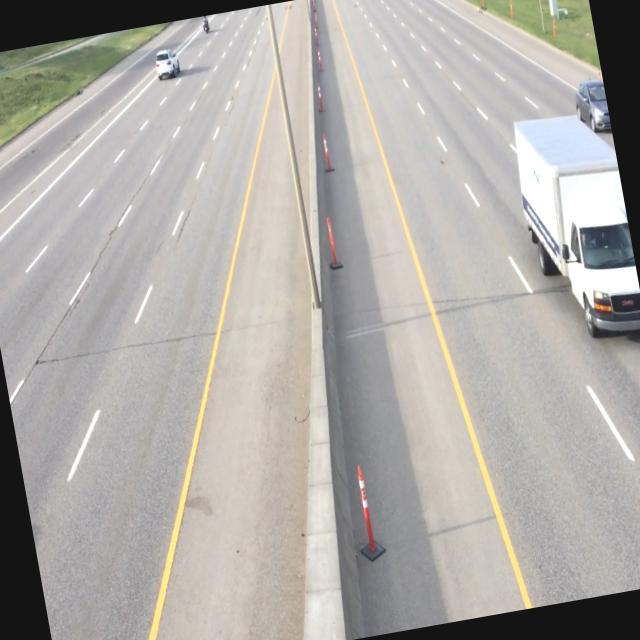Vehicle: (505, 100, 640, 352), (572, 72, 612, 138), (152, 42, 181, 83)
